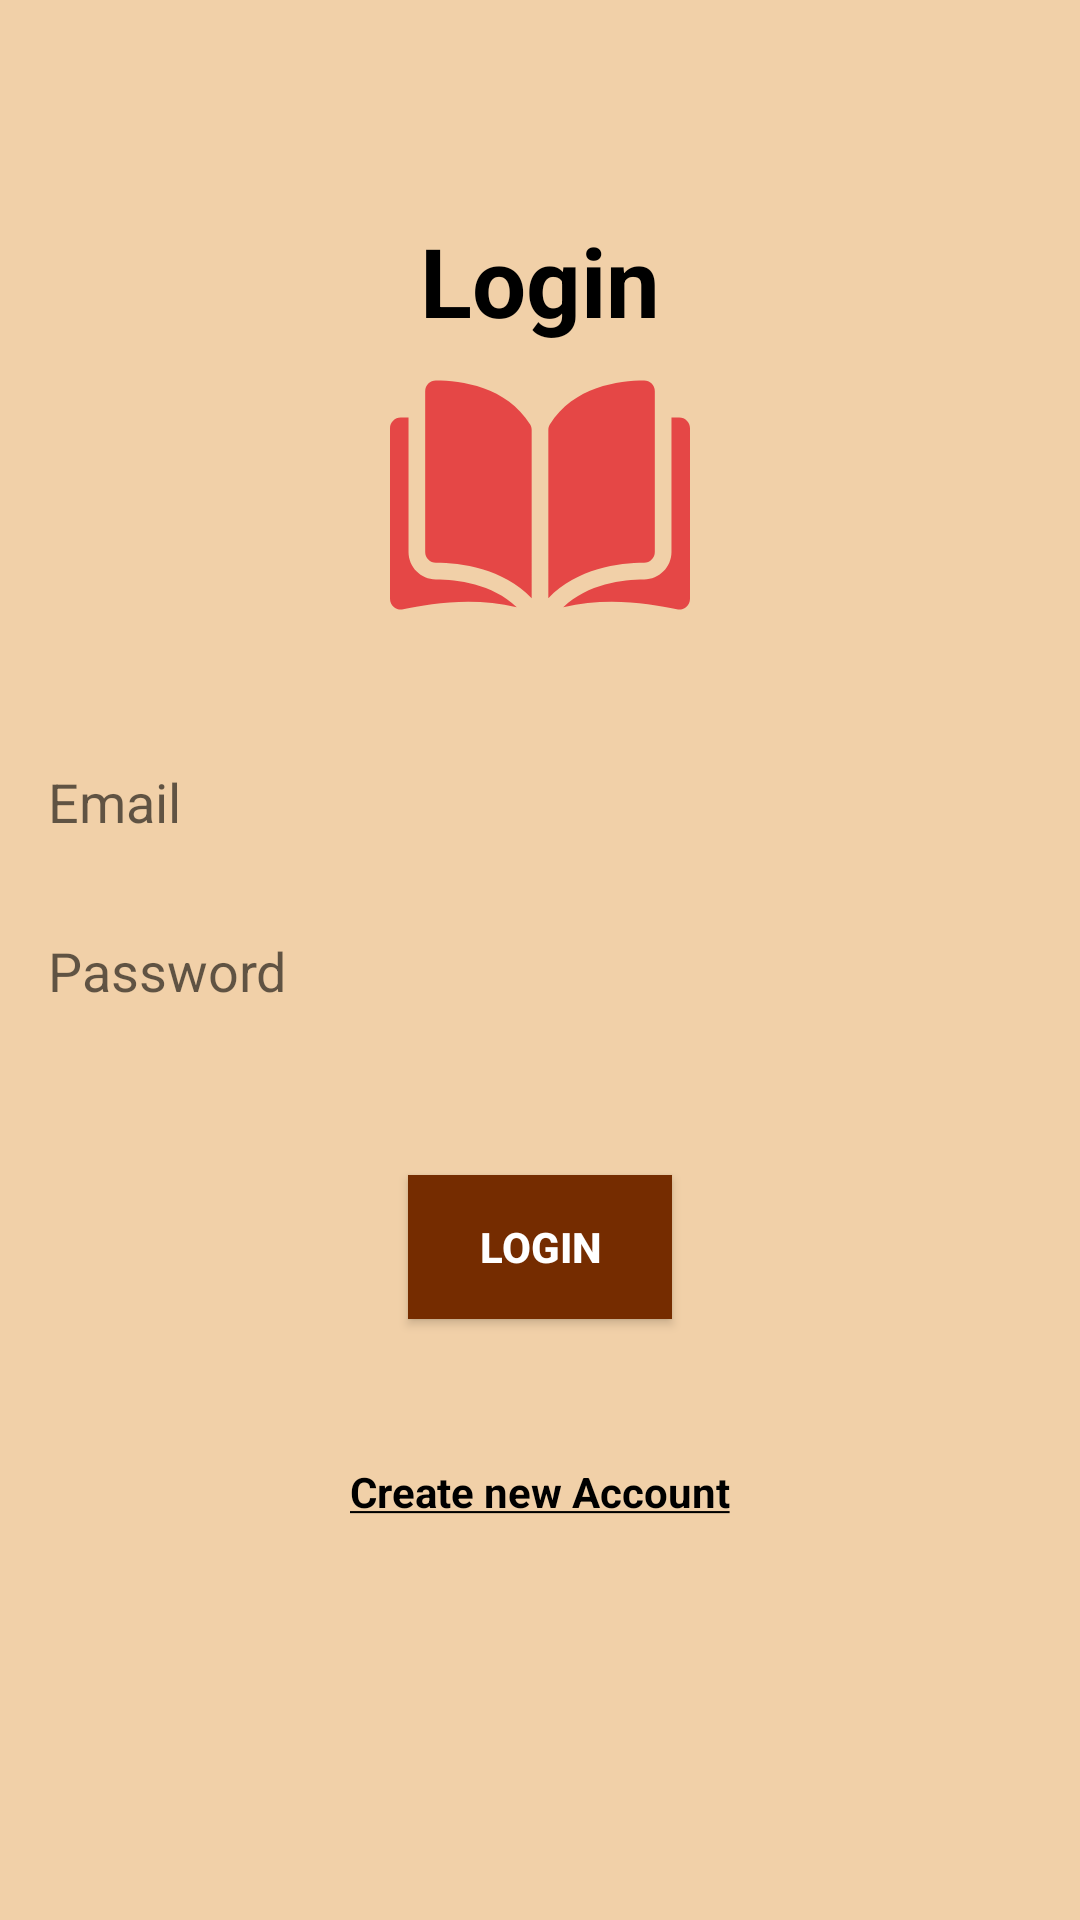

Point at icon controls on the screen. Image size 1080px×1920px, points as [x,y].
open book: [540,495]
